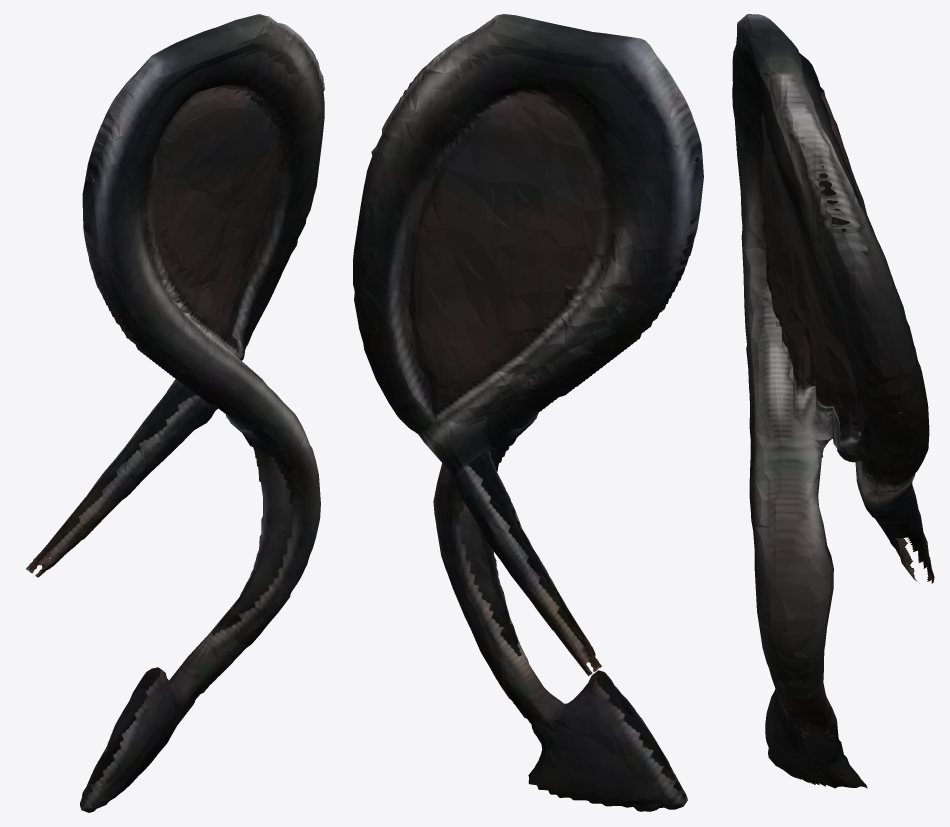
The model's file is curltail.glb.
3 views of the same model, side by side, from view 1: azimuth 30°, elevation 25°; view 2: azimuth 150°, elevation 25°; view 3: azimuth 270°, elevation 25° (orthographic). The views are drawn at different scales.
Parts seen in each view (by area): view 1: geometry_0; view 2: geometry_0; view 3: geometry_0.
Part boxes in pixels (bbox=[...]): geometry_0: bbox=[26, 14, 324, 812]; geometry_0: bbox=[353, 14, 703, 811]; geometry_0: bbox=[732, 14, 934, 788].
Bounding box in the file's own units: 0.4103 × 1.04 × 0.2445.
Materials: 1 (1 with a texture image).
